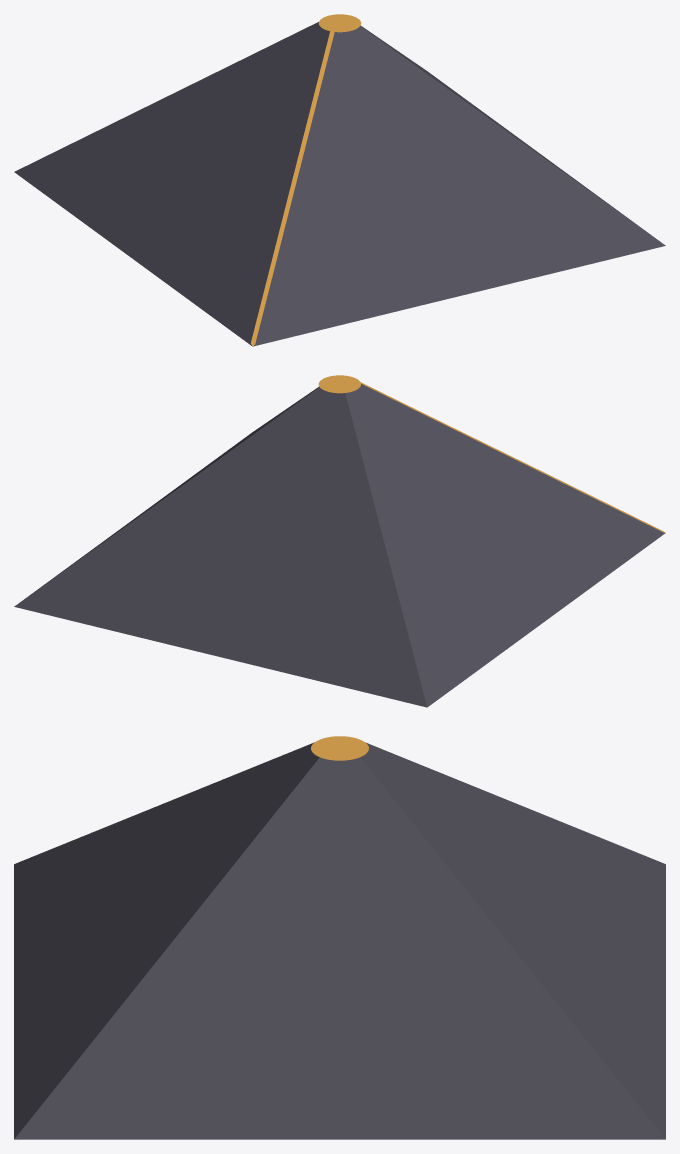
File: Prisma_1.glb
3 views of the same model, one above another, from view 1: azimuth 30°, elevation 25°; view 2: azimuth 150°, elevation 25°; view 3: azimuth 270°, elevation 25° (orthographic). The views are drawn at different scales.
Visible parts, largest first — view 1: Piramide, Linha Laranja, Bola; view 2: Piramide, Bola, Linha Laranja; view 3: Piramide, Bola.
Boxes of the visible parts, bbox=[...] form: Piramide: bbox=[14, 22, 665, 346]; Linha Laranja: bbox=[251, 31, 334, 346]; Bola: bbox=[318, 14, 361, 32]; Piramide: bbox=[14, 384, 665, 707]; Bola: bbox=[318, 375, 360, 393]; Linha Laranja: bbox=[361, 382, 665, 532]; Piramide: bbox=[14, 742, 665, 1139]; Bola: bbox=[311, 736, 368, 760].
Size of the model in its own units: 2 by 0.8584 by 2.
